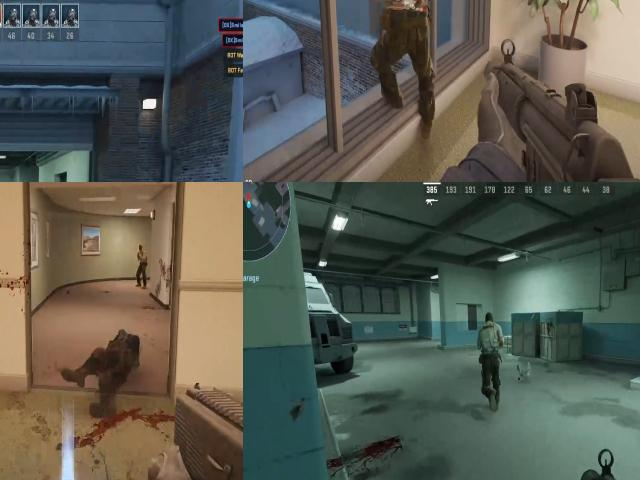Dead: (70, 317, 144, 413)
T: (476, 313, 504, 365), (135, 241, 149, 268)
T-Head: (480, 312, 499, 335), (137, 244, 146, 254)
